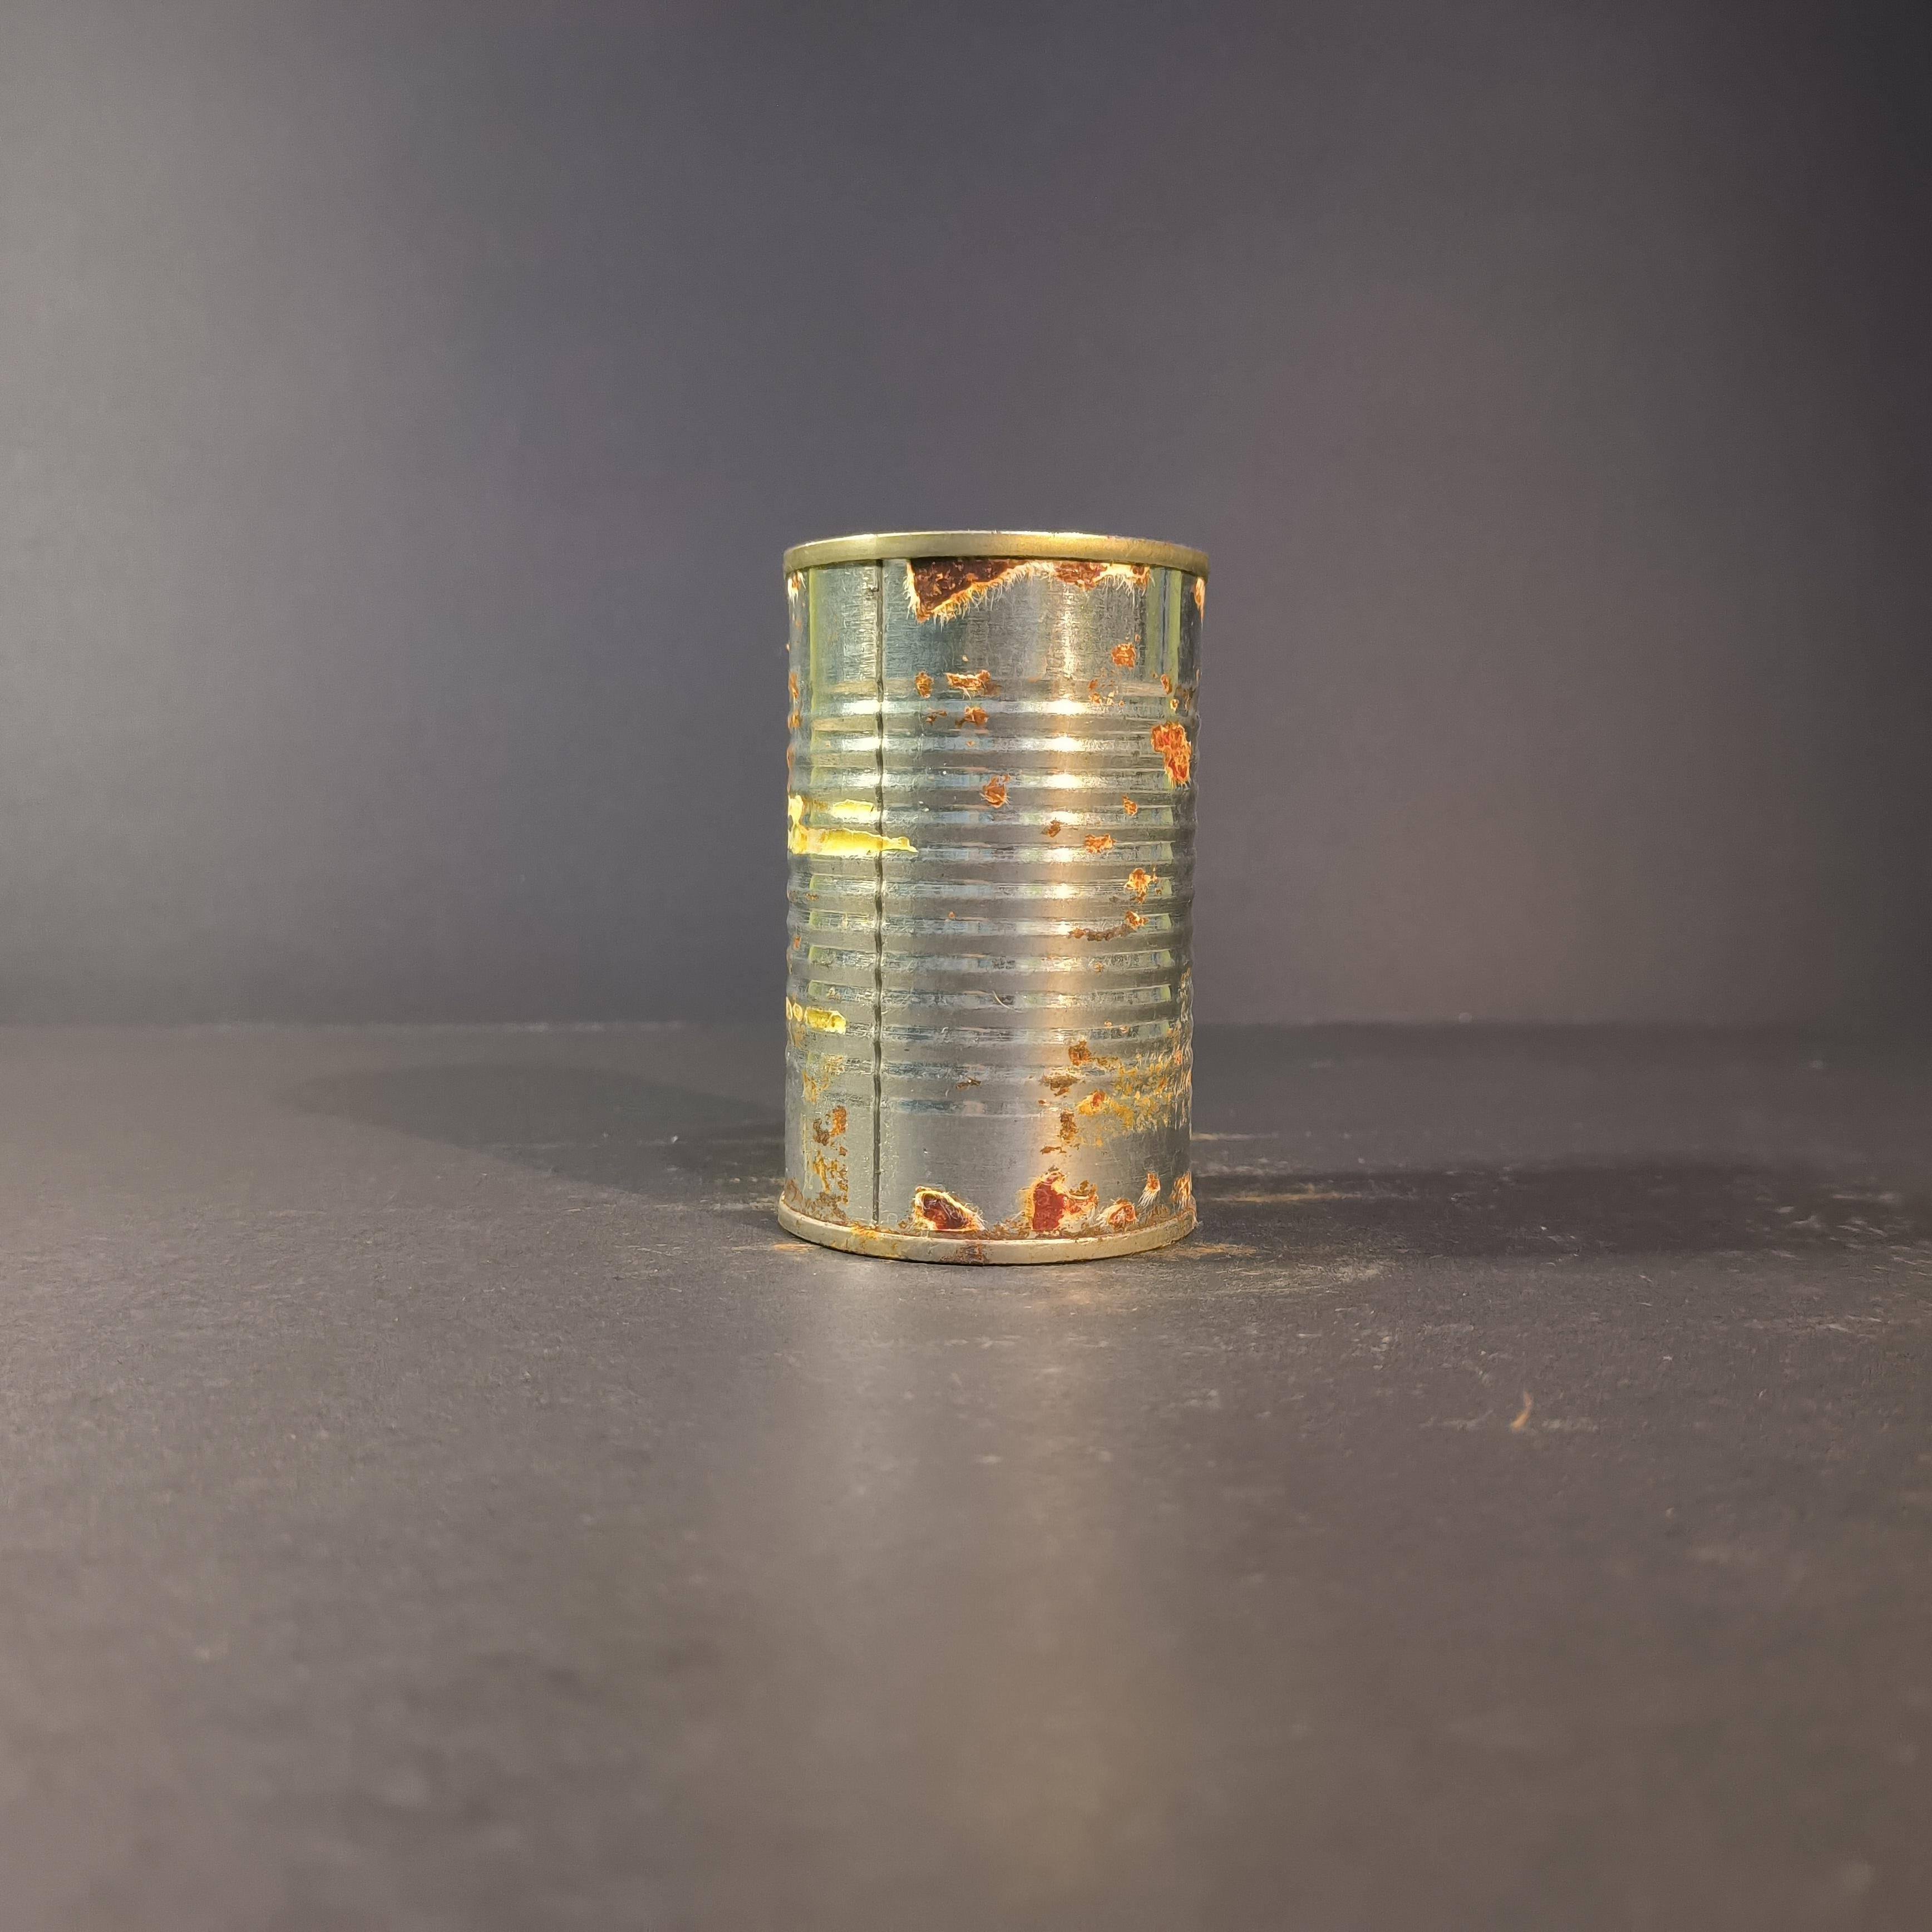Rusted: (748, 504, 1230, 1288)
